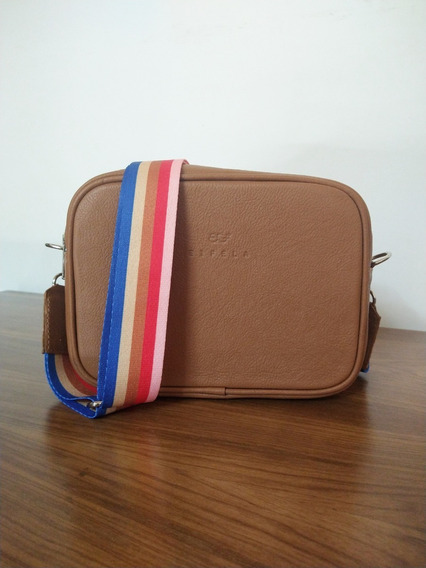cartera: (36, 158, 388, 416)
